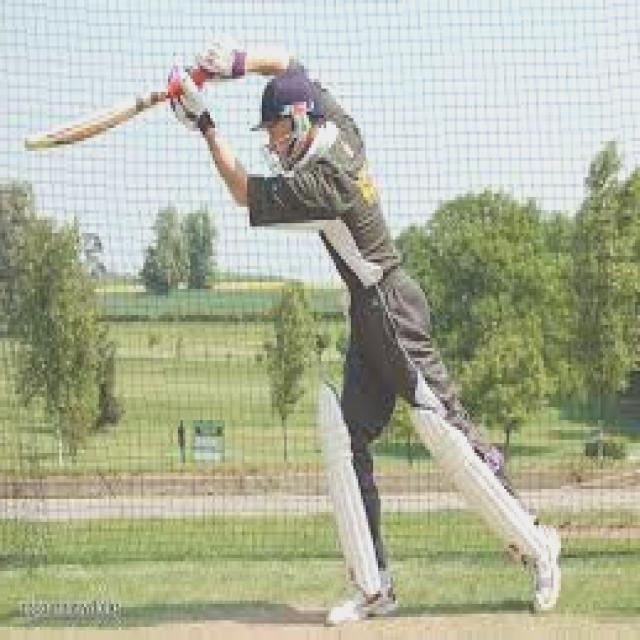toe: (17, 122, 81, 158)
